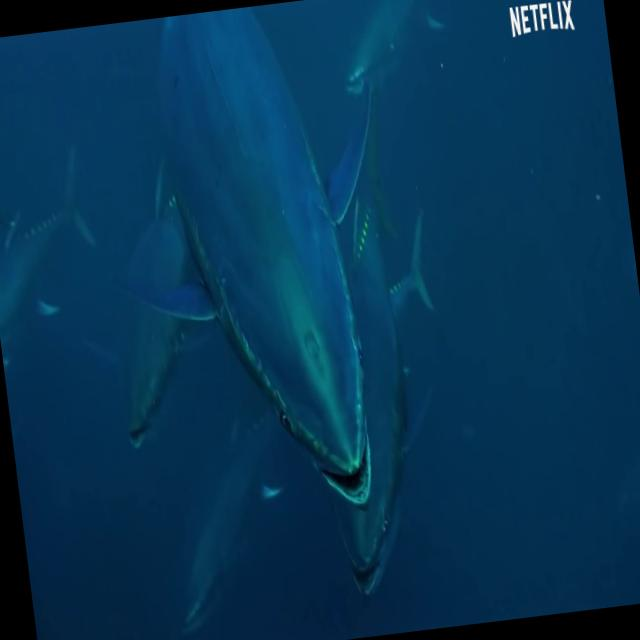fish: (119, 0, 403, 519), (282, 62, 462, 598), (82, 151, 219, 445)
